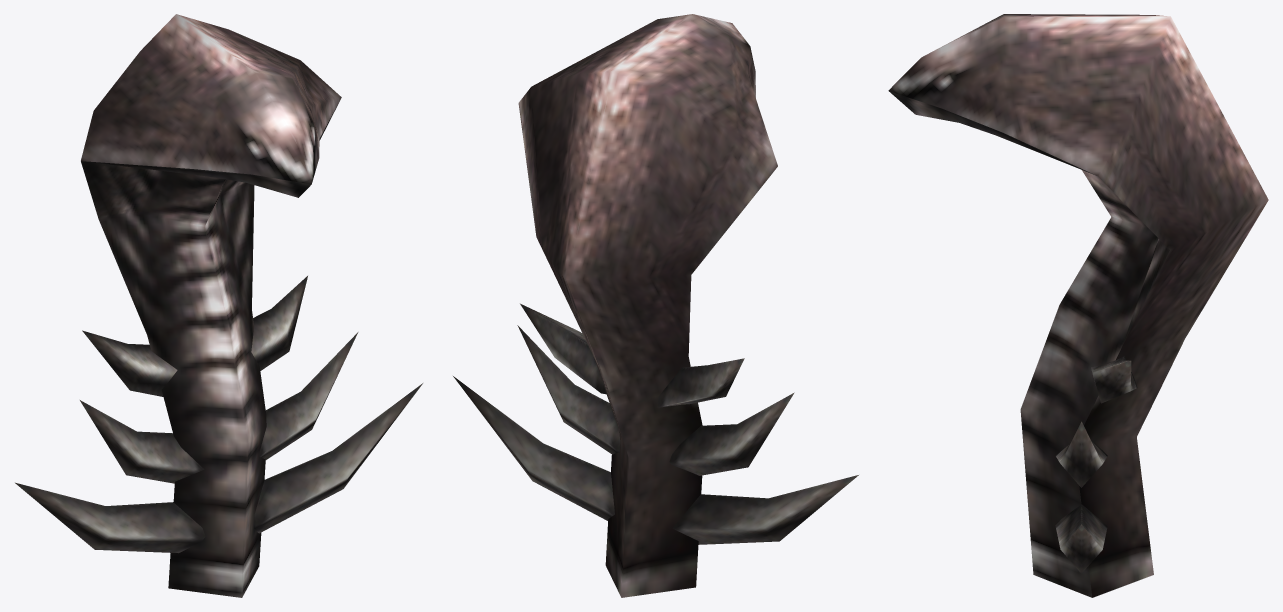
File: chunzheng_tail_default.FBX
3 renders of one model, left to right at view 1: azimuth 30°, elevation 25°; view 2: azimuth 150°, elevation 25°; view 3: azimuth 270°, elevation 25°, orthographic. The views are drawn at different scales.
Parts seen in each view (by area): view 1: chunzheng_tail_default; view 2: chunzheng_tail_default; view 3: chunzheng_tail_default.
Boxes of the visible parts, x1,y1,x2,y2 form: chunzheng_tail_default: (15, 14, 422, 597); chunzheng_tail_default: (453, 14, 858, 597); chunzheng_tail_default: (888, 14, 1268, 597).
Size of the model in its own units: 9.07 by 11.33 by 7.
Materials: 1 (1 with a texture image).
